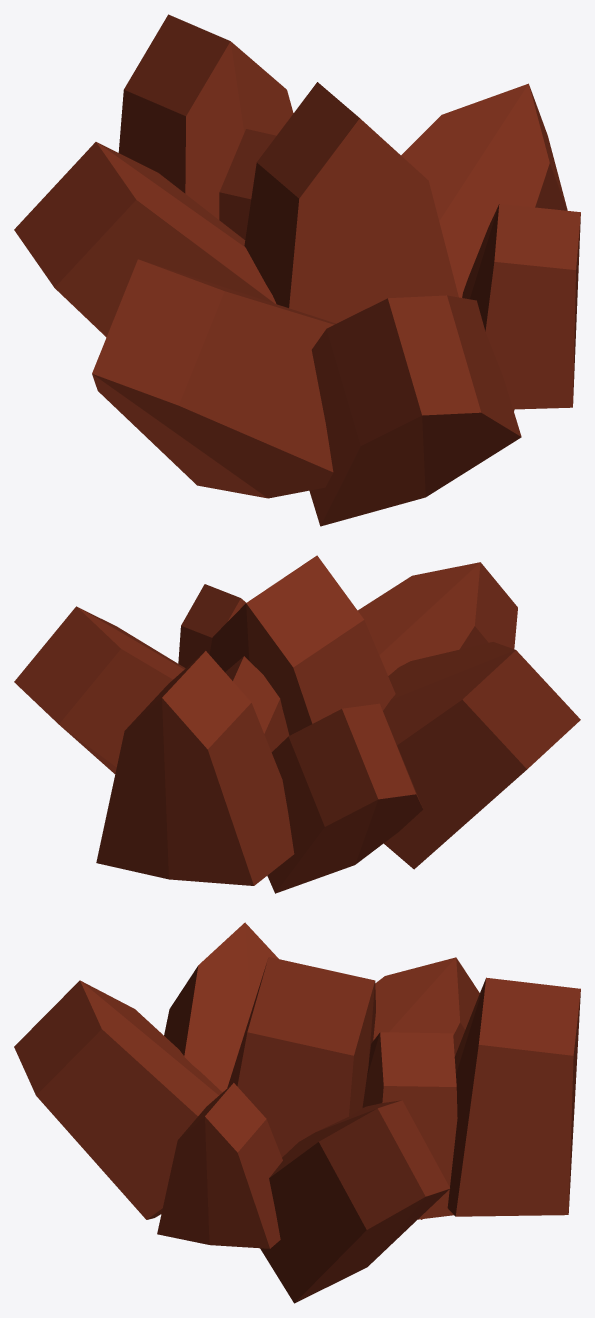
The model's file is lp_Rock_Type3_04_mesh_001_Cube_016.obj.
3 renders of one model, top to bottom at view 1: azimuth 30°, elevation 25°; view 2: azimuth 150°, elevation 25°; view 3: azimuth 270°, elevation 25°, orthographic. The views are drawn at different scales.
Visible parts, largest first — view 1: lp_Rock_Type3_04_mesh_001_Cube_016; view 2: lp_Rock_Type3_04_mesh_001_Cube_016; view 3: lp_Rock_Type3_04_mesh_001_Cube_016.
Part boxes in pixels (left/top/right/bottom): lp_Rock_Type3_04_mesh_001_Cube_016: left=14, top=14, right=580, bottom=526; lp_Rock_Type3_04_mesh_001_Cube_016: left=14, top=555, right=580, bottom=893; lp_Rock_Type3_04_mesh_001_Cube_016: left=14, top=922, right=580, bottom=1303.
Size of the model in its own units: 3.05 by 1.73 by 3.17.
